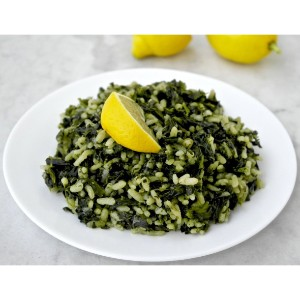spinach_brain food: (50, 83, 239, 228)
